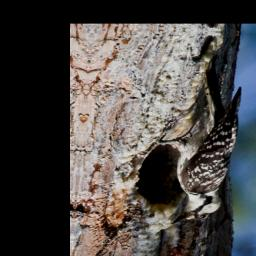Woodpecker: (149, 48, 253, 233)
